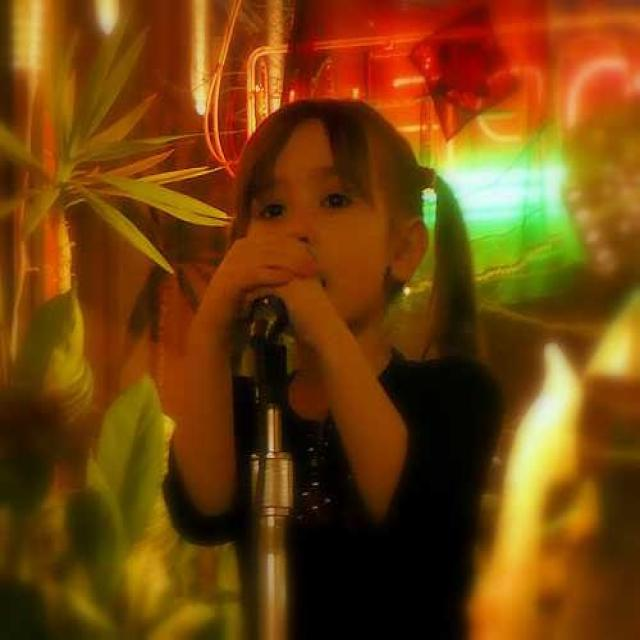microphone: (250, 236, 329, 368)
